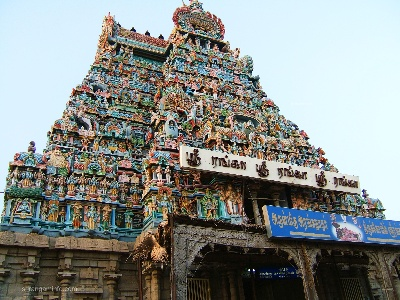gopura: (21, 4, 371, 227)
